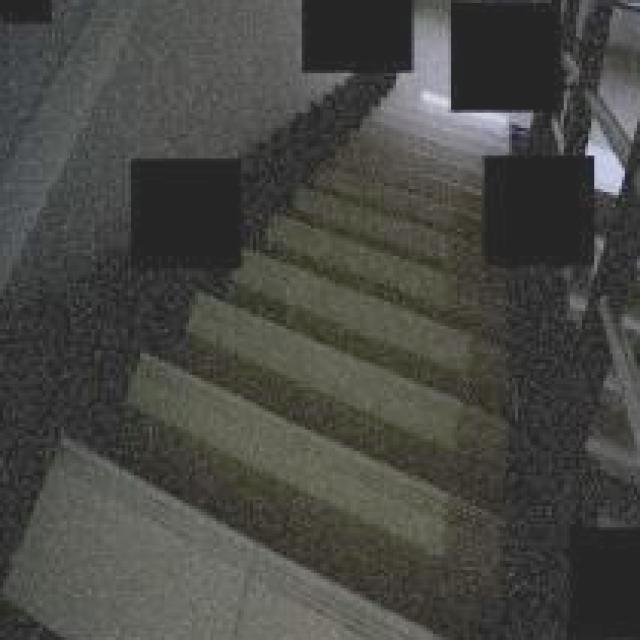downstair: (251, 254, 568, 640)
